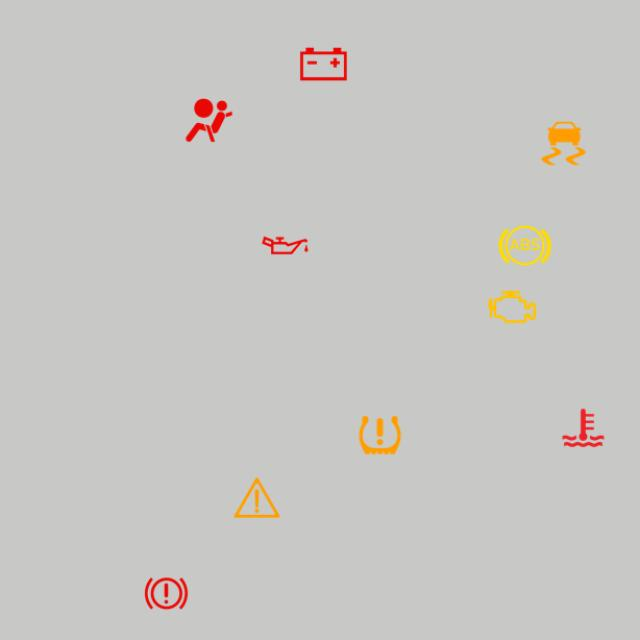Anti Lock Braking System: (496, 217, 554, 274)
Braking System Issue: (138, 565, 195, 622)
Charging System Issue: (295, 35, 352, 93)
Check Engine: (484, 278, 541, 336)
Electronic Stability Problem -ESP-: (535, 115, 592, 172)
Engine Overheating Warning Light: (554, 399, 612, 457)
Low Engine Oil Warning Light: (256, 217, 314, 274)
Low Tire Pressure Warning Light: (351, 406, 409, 464)
Master warning light: (228, 469, 286, 526)
SRS-Airbag: (180, 92, 238, 149)
